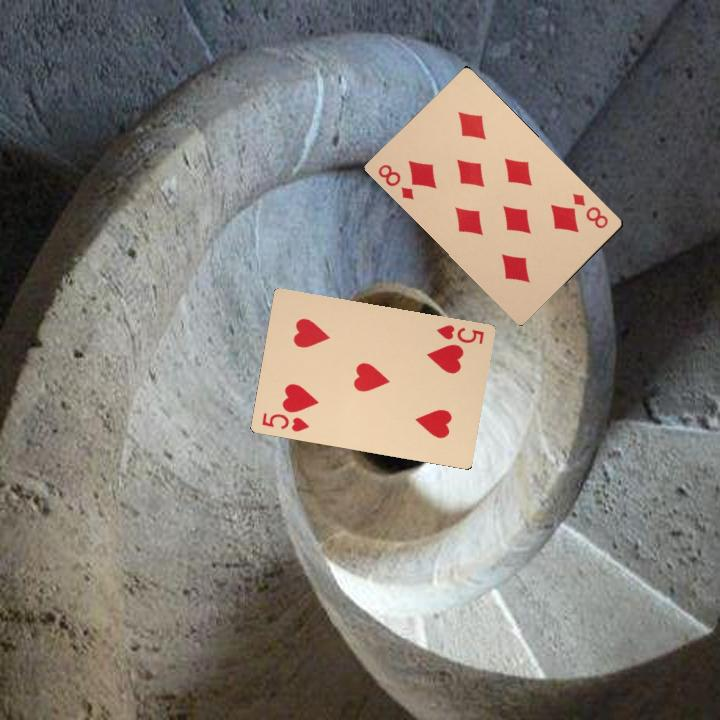5h: (432, 321, 486, 347), (258, 409, 312, 434)
8d: (568, 189, 611, 231), (374, 160, 416, 202)
